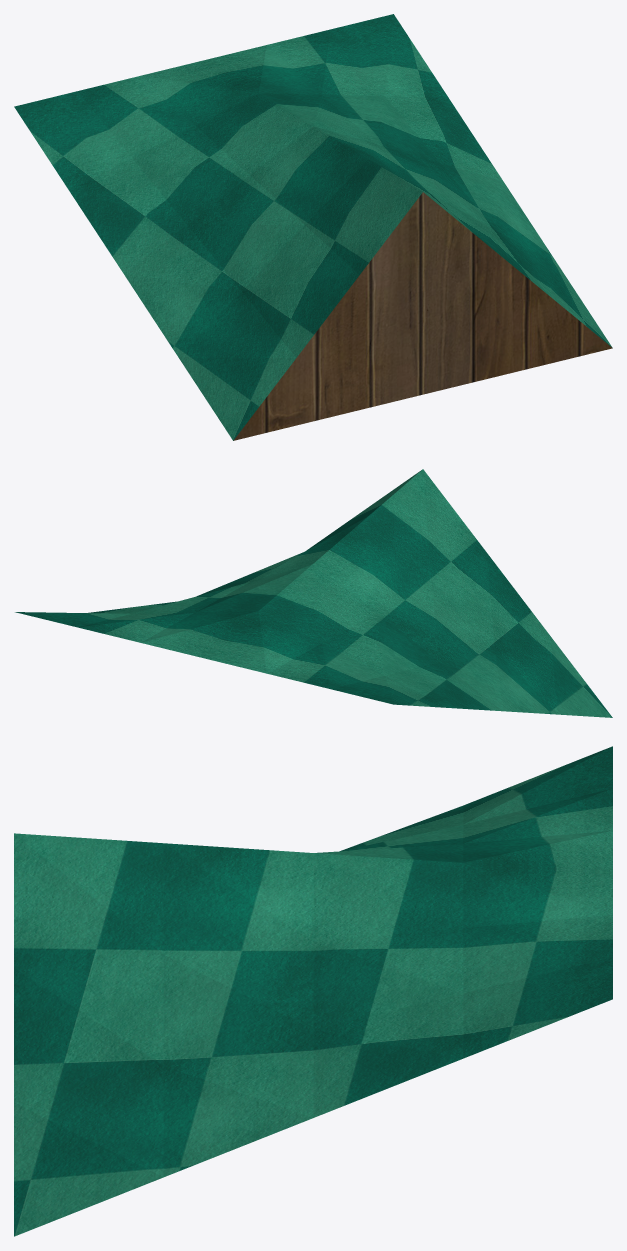
The model's file is Part_pointyUP.gltf.
The picture shows the model from 3 angles, top to bottom: view 1: azimuth 30°, elevation 25°; view 2: azimuth 150°, elevation 25°; view 3: azimuth 270°, elevation 25°; orthographic projection. The views are drawn at different scales.
Parts seen in each view (by area): view 1: Part_pointyUP_glb; view 2: Part_pointyUP_glb; view 3: Part_pointyUP_glb.
Part boxes in pixels (x1,y1,x2,y2): Part_pointyUP_glb: (14, 14, 612, 440); Part_pointyUP_glb: (15, 469, 612, 717); Part_pointyUP_glb: (14, 746, 612, 1236).
Size of what is drawn, in the model's own units: 4 by 2.04 by 4.
Materials: 2 (2 with a texture image).
